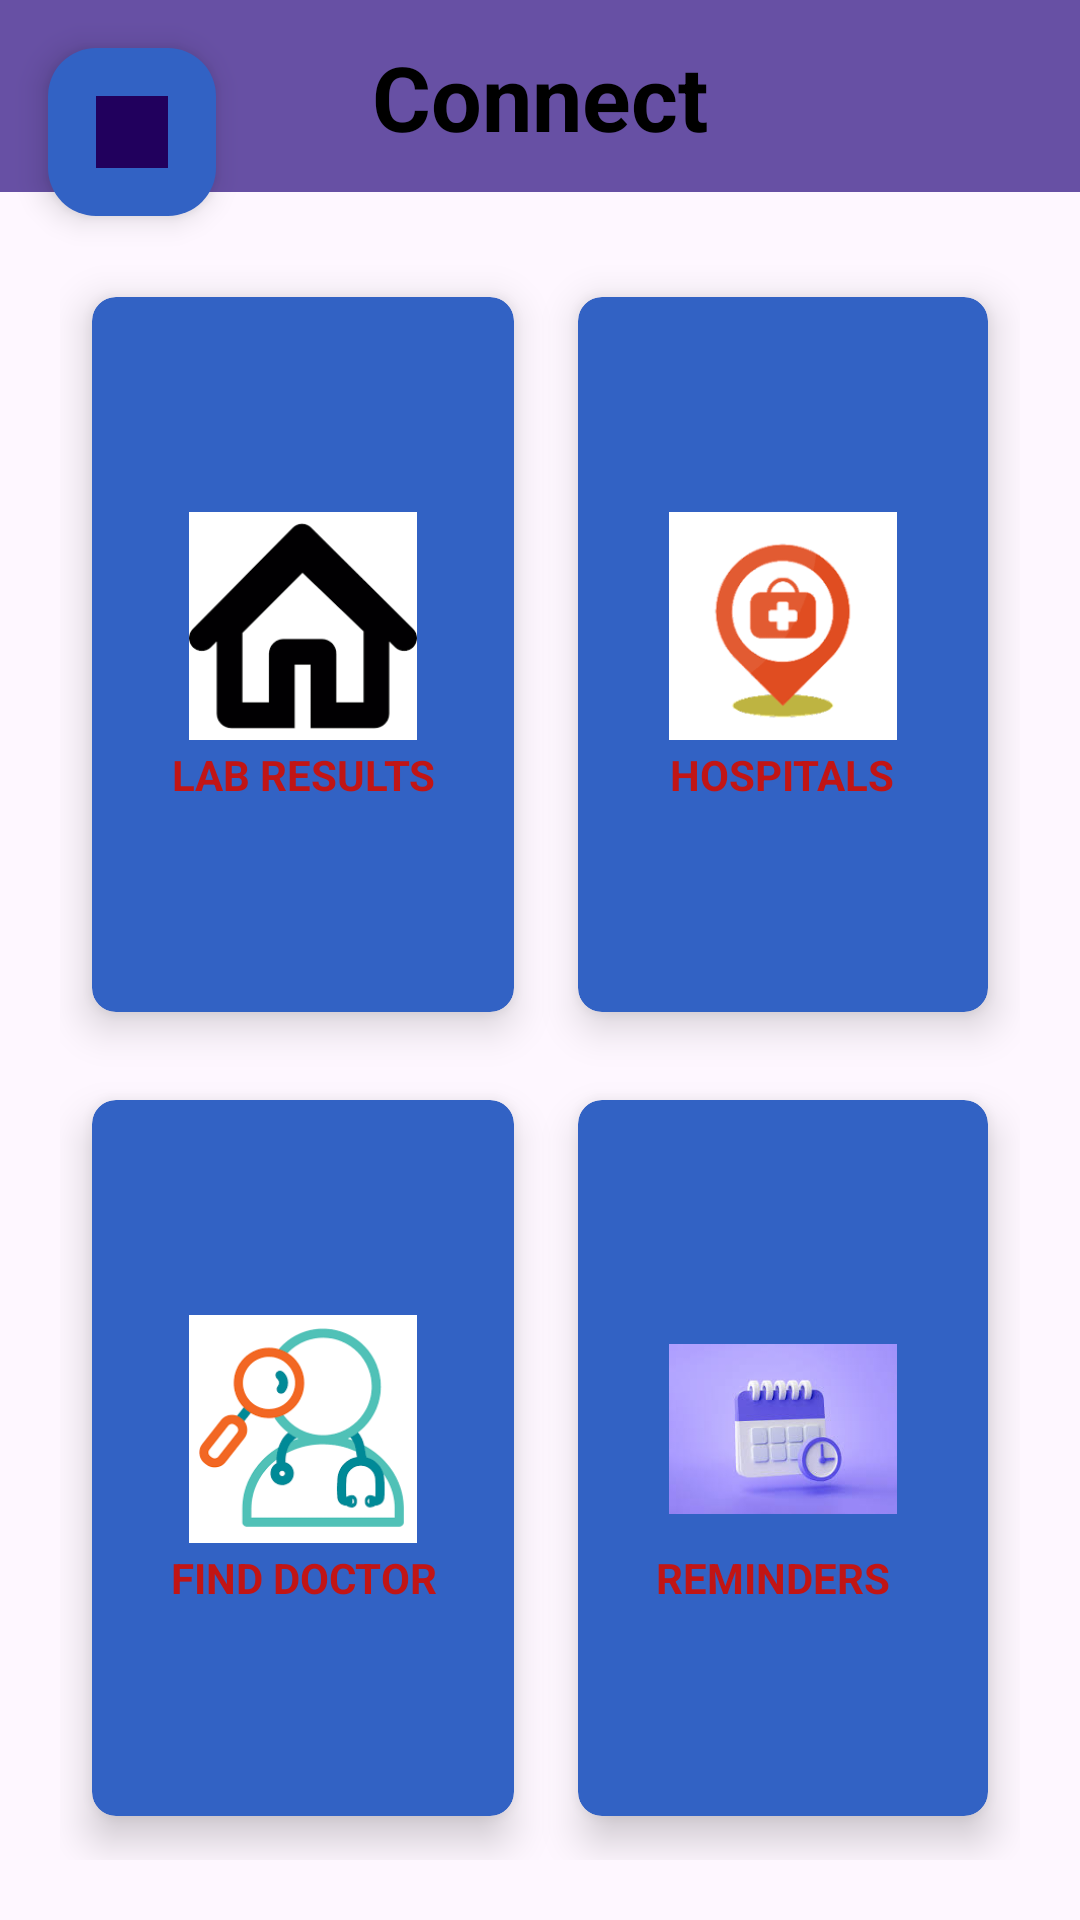

Locate icon controls on the screen. Image size 1080w x 1920h, boxes as (x1, y1, x2, y2).
calender: (669, 1344, 897, 1514)
homesmall: (189, 512, 417, 740)
